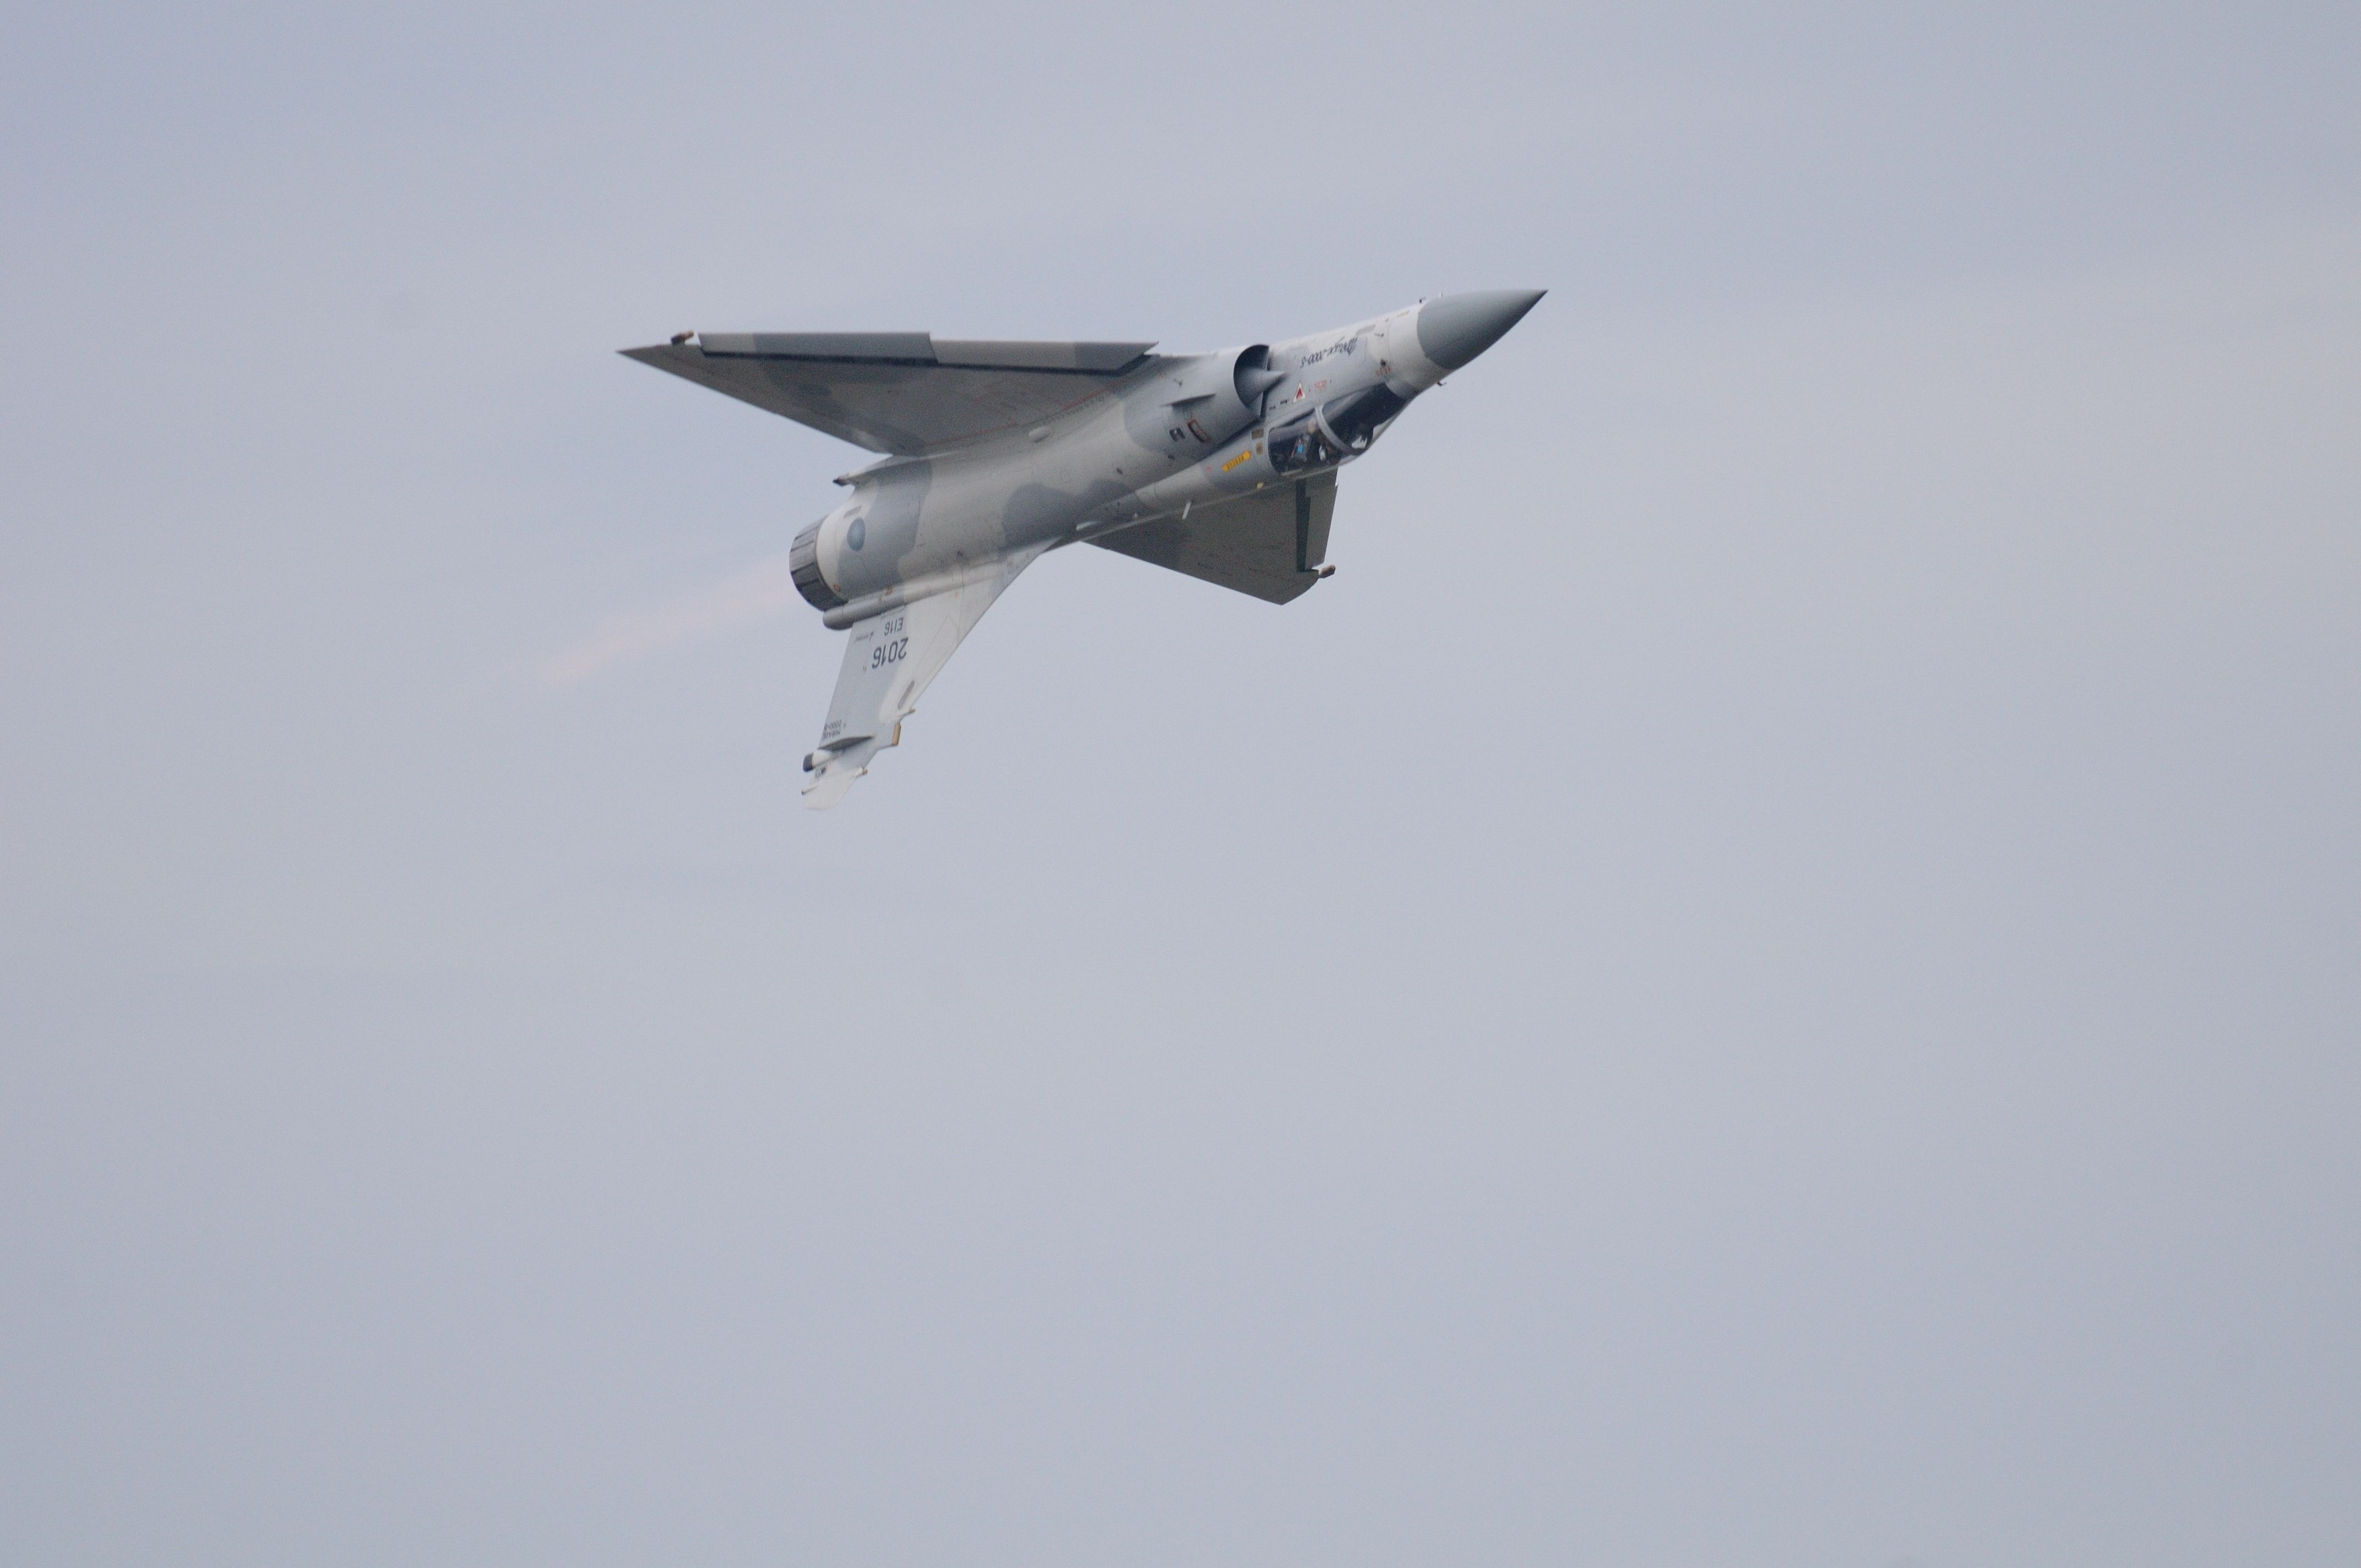Mirage2000: (613, 285, 1549, 810)
